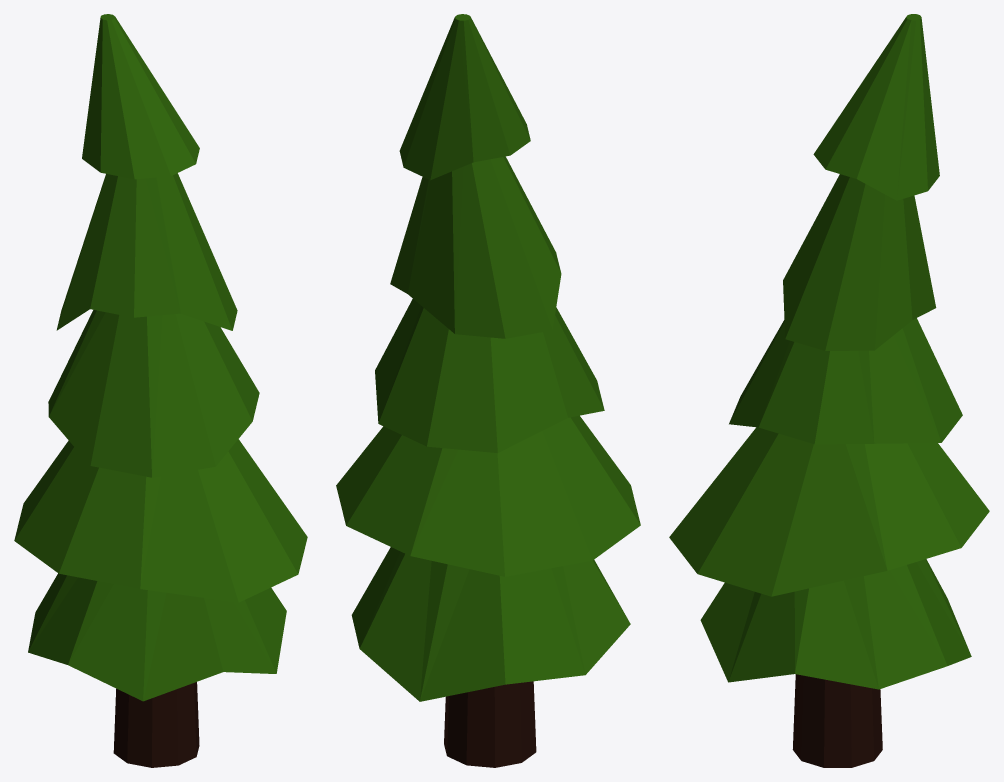
Rendered from tiny_tree_green.obj.
3 renders of one model, left to right at view 1: azimuth 30°, elevation 25°; view 2: azimuth 150°, elevation 25°; view 3: azimuth 270°, elevation 25°, orthographic. The views are drawn at different scales.
Visible parts, largest first — view 1: t6-green_Cylinder.003; view 2: t6-green_Cylinder.003; view 3: t6-green_Cylinder.003.
Boxes of the visible parts, x1,y1,x2,y2 form: t6-green_Cylinder.003: [14, 14, 307, 767]; t6-green_Cylinder.003: [336, 14, 640, 767]; t6-green_Cylinder.003: [669, 14, 989, 767].
Bounding box in the file's own units: 3.03 × 8.64 × 3.46.
